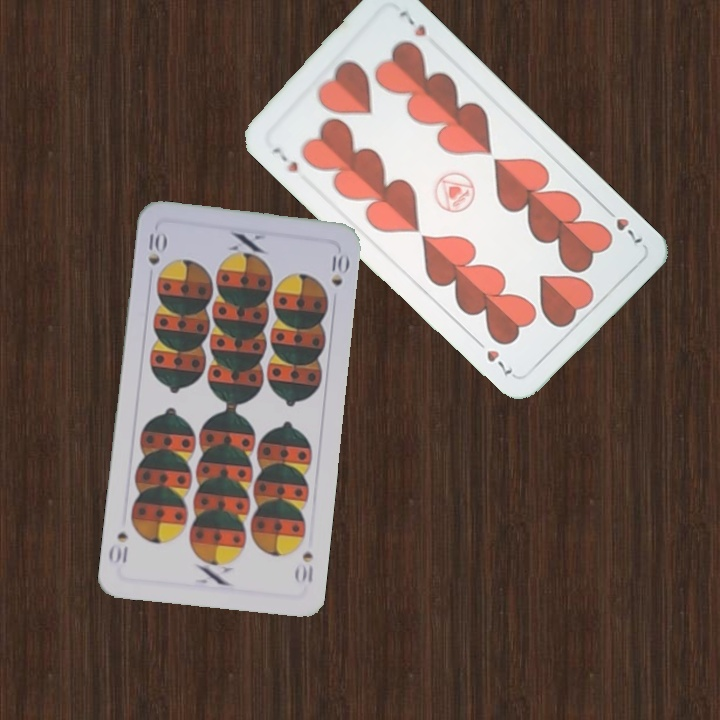H7: (599, 202, 645, 247), (268, 142, 301, 175)
S10: (291, 547, 316, 586), (144, 229, 167, 268)
